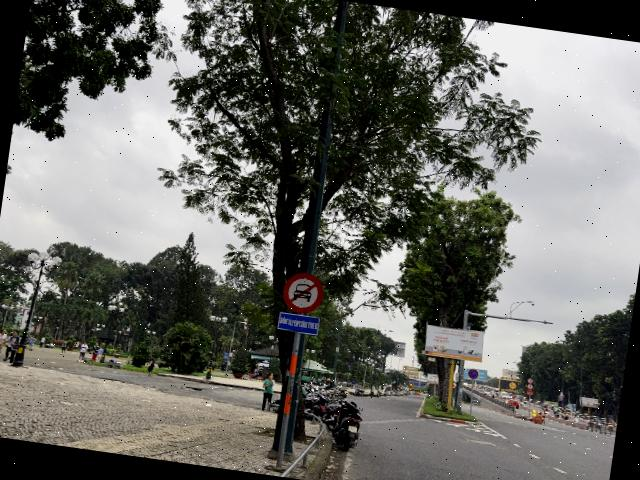cam-o-to: (281, 270, 326, 316)
